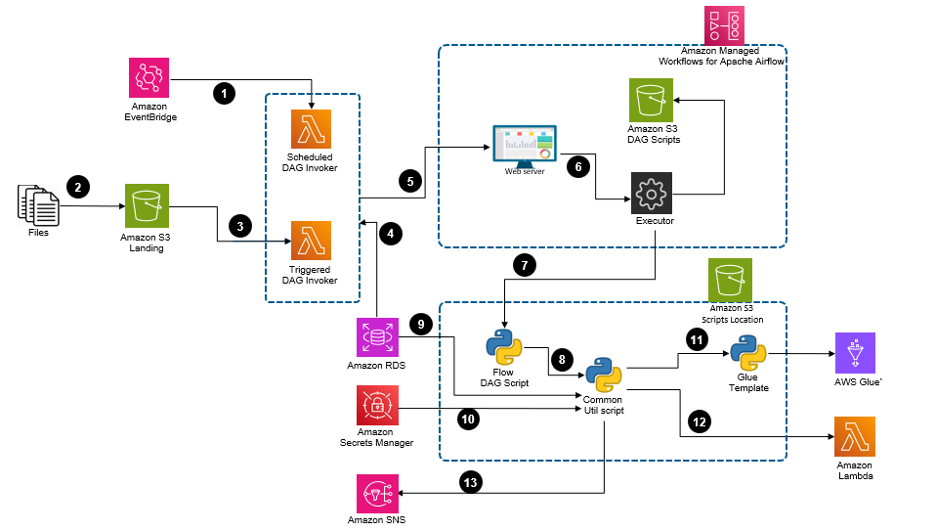glue: (836, 334, 875, 373)
lambda: (835, 419, 875, 456), (292, 222, 330, 260), (292, 112, 330, 148)
rds: (358, 476, 398, 513), (358, 319, 398, 356)
s3: (709, 260, 751, 303), (631, 79, 672, 123), (125, 186, 167, 227), (130, 57, 168, 98)
secrets manager: (356, 386, 398, 425)
